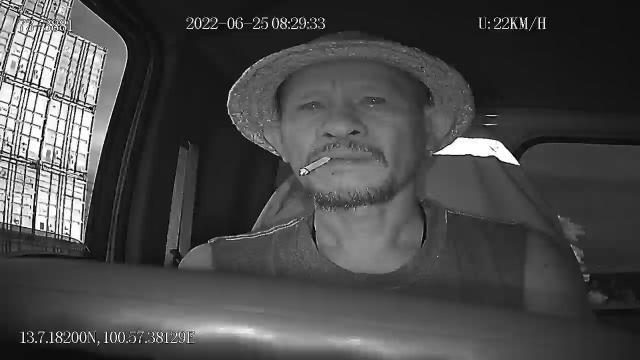SafeDriving: (354, 85, 394, 115), (294, 92, 332, 117)
Smoking: (299, 154, 331, 174)
